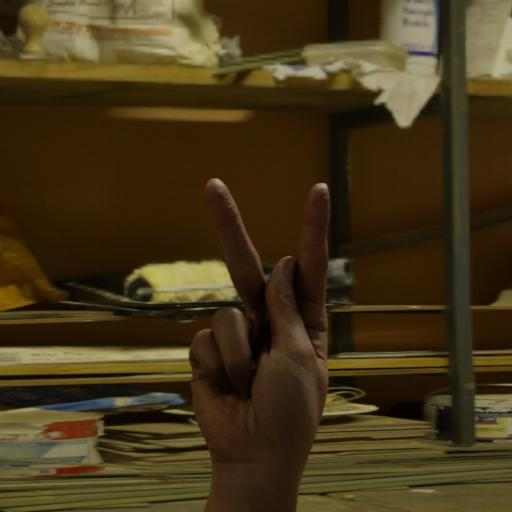K: (183, 172, 338, 472)
